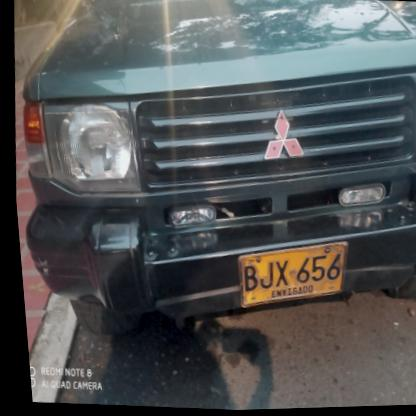placa: (223, 239, 348, 320)
